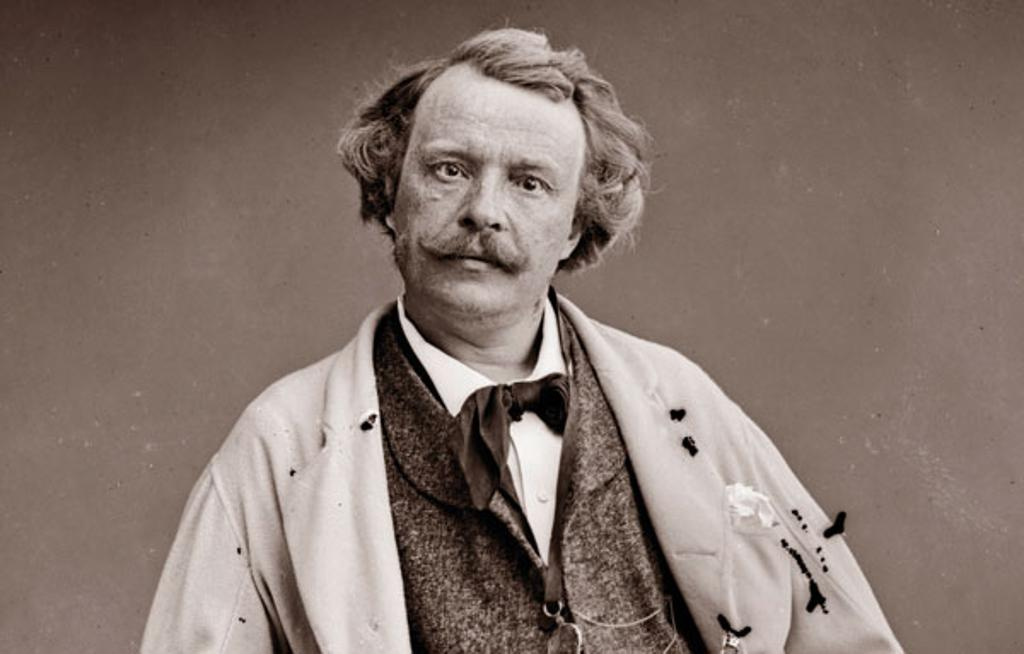face: (398, 62, 584, 316)
